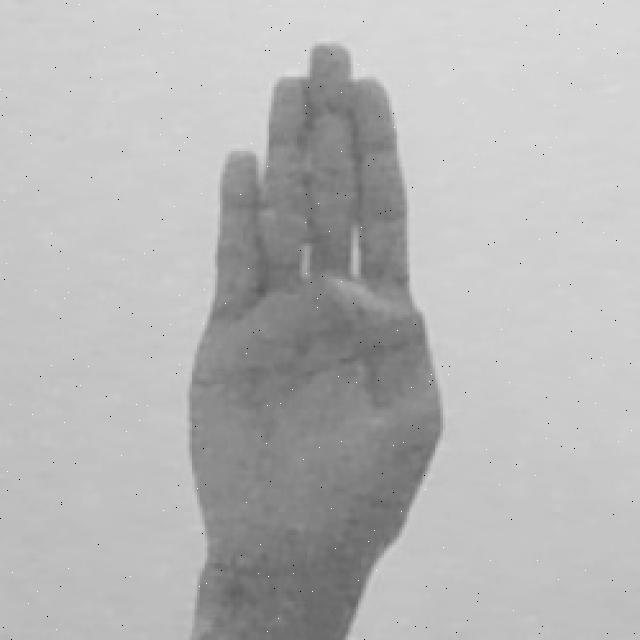B: (182, 36, 448, 640)
